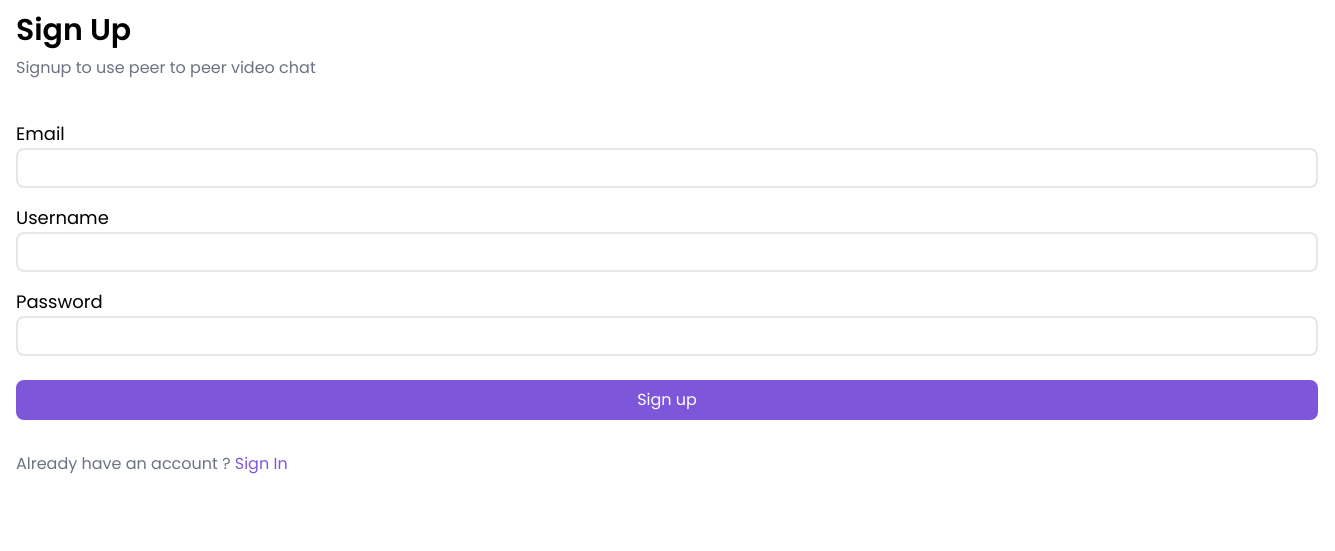
Signup form › should render correct error on incorrect username length
Type "abcde" into the field labelled "Username" at point(667, 252), box x1=16 y1=232 x2=1318 y2=272
Then press Enter
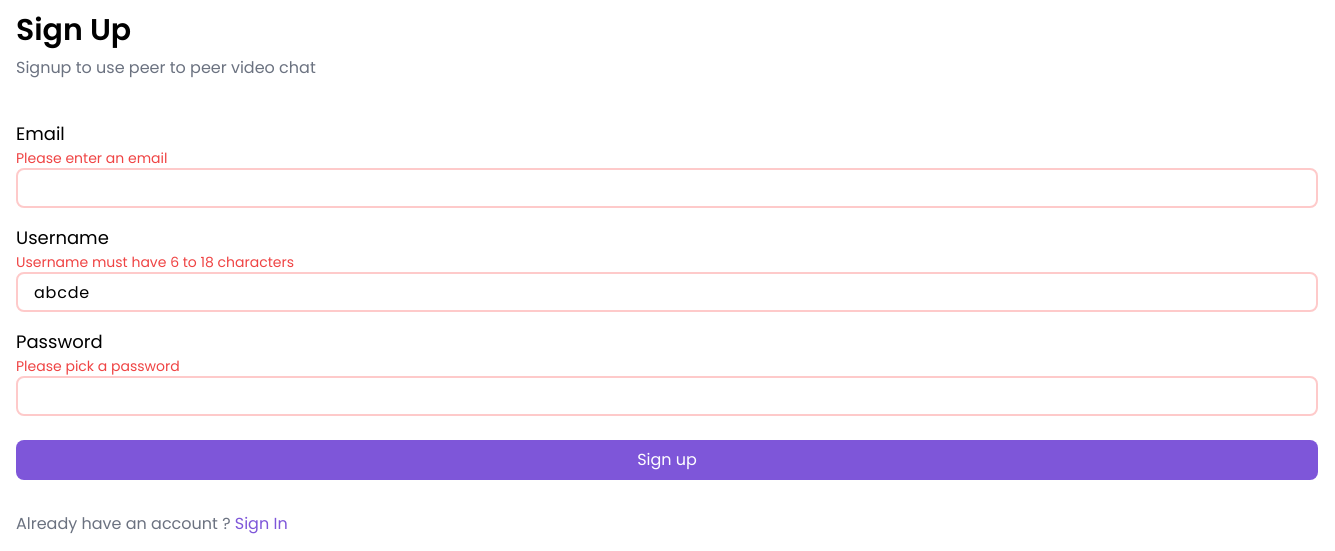
Now the text "Username must have 6 to 18 characters" is shown, box x1=16 y1=252 x2=294 y2=272
